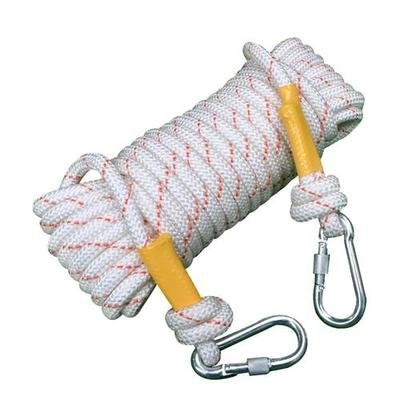9/可回收垃圾/绳子: (31, 35, 368, 380)
